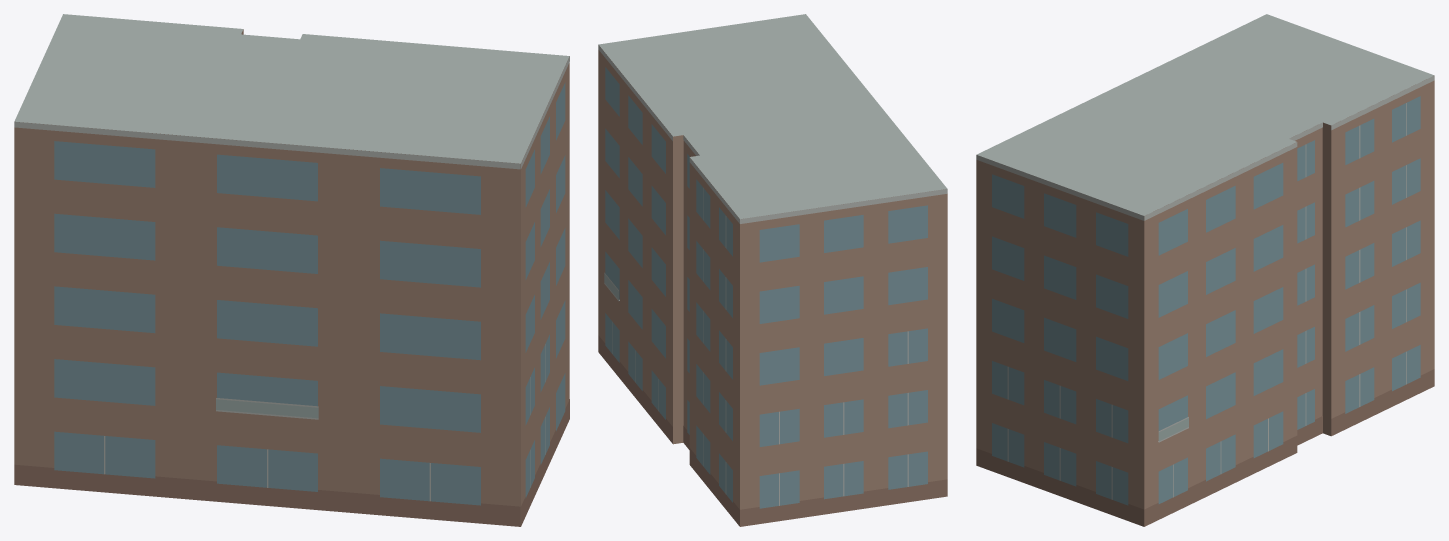
Rendered from survey-upis-32656802.glb.
The picture shows the model from 3 angles, left to right: view 1: azimuth 30°, elevation 25°; view 2: azimuth 150°, elevation 25°; view 3: azimuth 270°, elevation 25°; orthographic projection. The views are drawn at different scales.
Visible parts, largest first — view 1: survey-upis-32656802.tmp; view 2: survey-upis-32656802.tmp; view 3: survey-upis-32656802.tmp.
Part boxes in pixels (<box>): survey-upis-32656802.tmp: <box>14,14,569,526</box>; survey-upis-32656802.tmp: <box>598,14,947,526</box>; survey-upis-32656802.tmp: <box>976,14,1434,526</box>.
Bounding box in the file's own units: 21.26 × 15.25 × 20.38.
